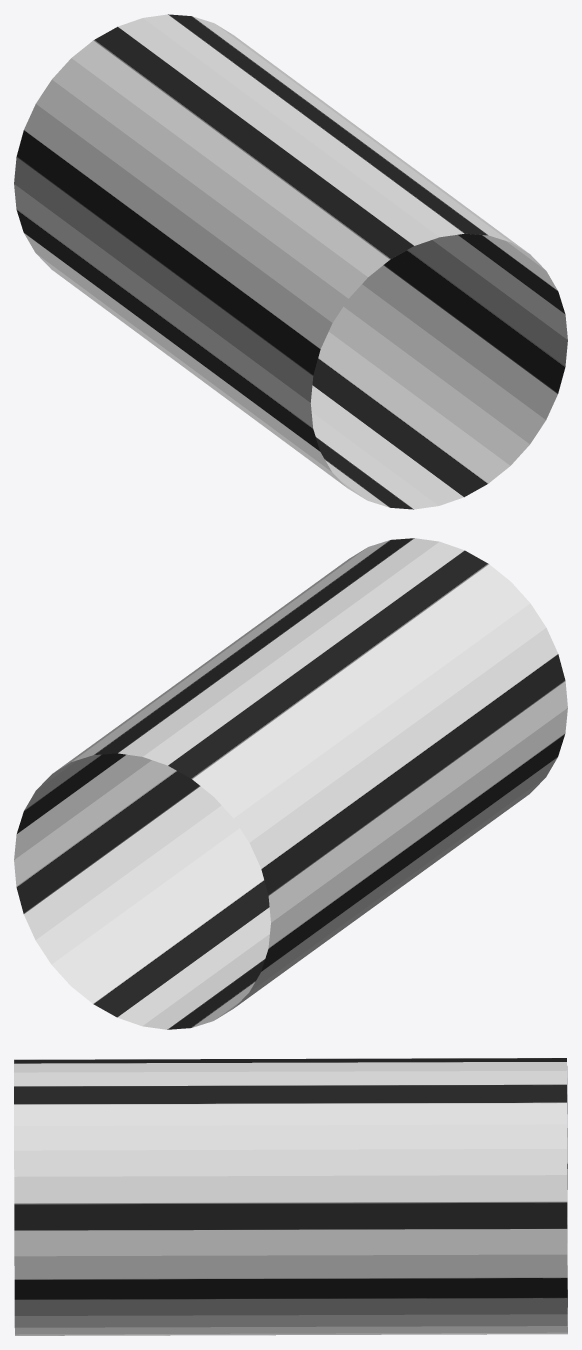
File: FuelTank.fbx
3 renders of one model, top to bottom at view 1: azimuth 30°, elevation 25°; view 2: azimuth 150°, elevation 25°; view 3: azimuth 270°, elevation 25°, orthographic. The views are drawn at different scales.
Visible parts, largest first — view 1: FuelTank; view 2: FuelTank; view 3: FuelTank.
Part boxes in pixels (x1,y1,x2,y2): FuelTank: [14, 14, 567, 509]; FuelTank: [14, 538, 567, 1029]; FuelTank: [14, 1058, 567, 1335].
Bounding box in the file's own units: 2 × 2.01 × 4.01.
